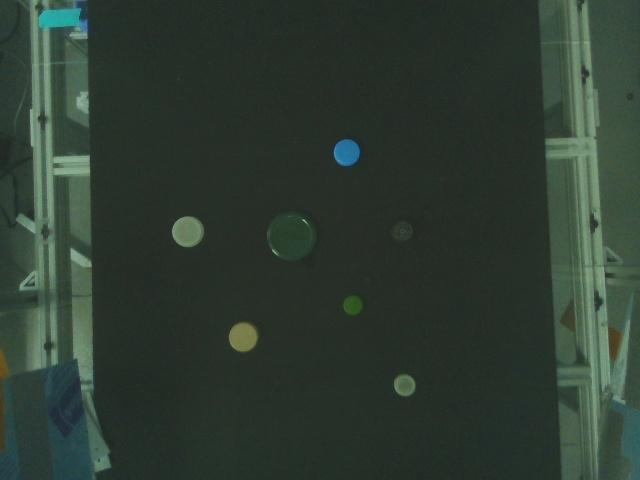metal: (267, 213, 313, 262)
plastic: (172, 214, 203, 248), (230, 322, 257, 352), (334, 138, 360, 166), (394, 373, 415, 397), (343, 294, 363, 316), (393, 221, 412, 243)
